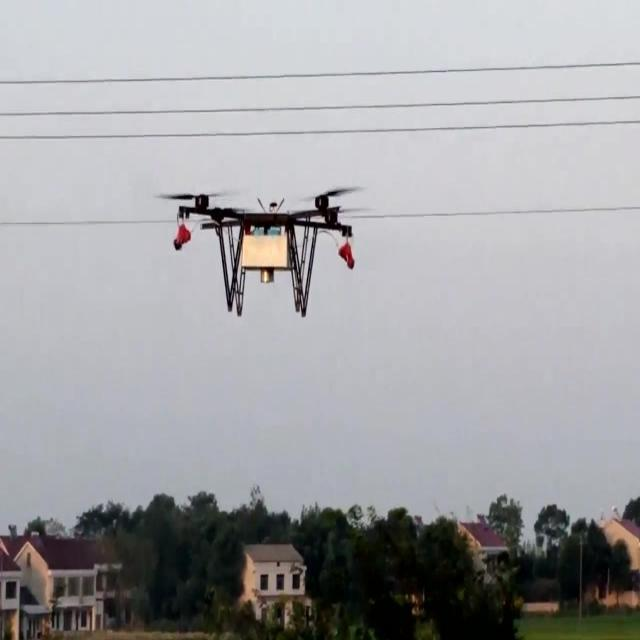UAV: (153, 187, 374, 318)
